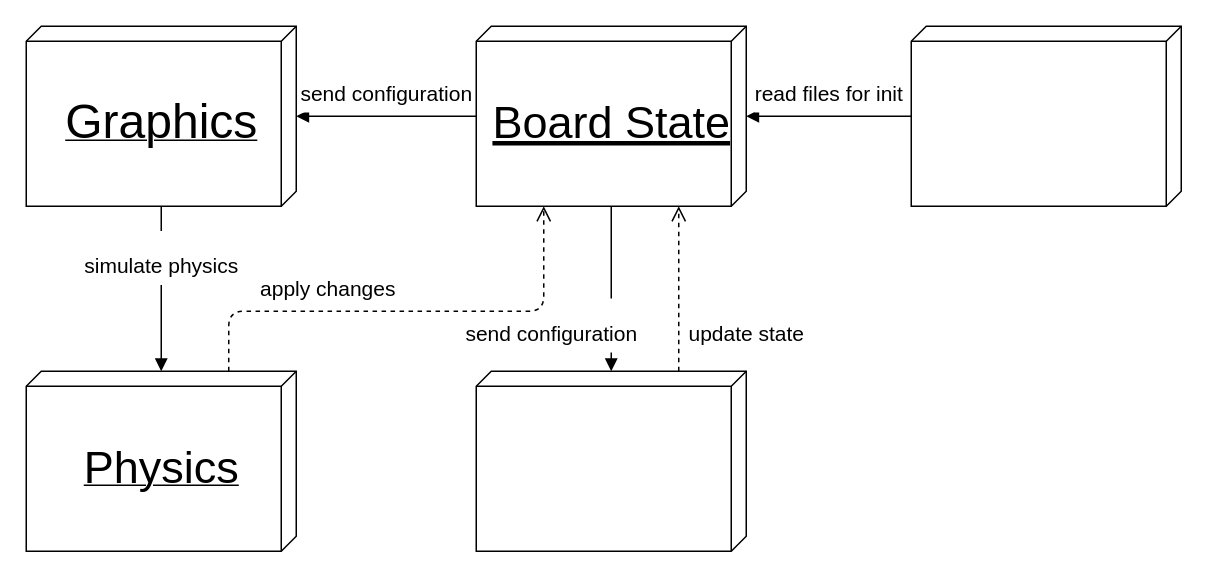
Image size: 1208x578. Some labels were removed from this diagram. Each missing label, with the box of its shape:
AI: (475, 370, 746, 551)
Execution: (910, 25, 1181, 206)
